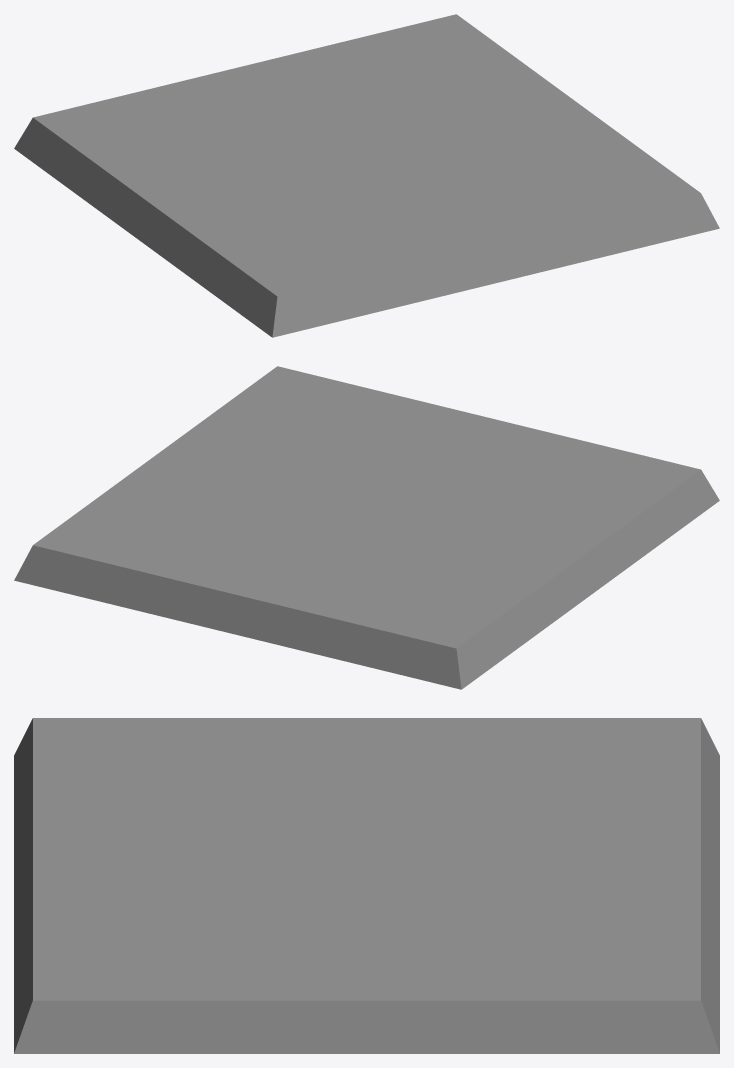
File: sidewalk-corner-01.glb
3 renders of one model, top to bottom at view 1: azimuth 30°, elevation 25°; view 2: azimuth 150°, elevation 25°; view 3: azimuth 270°, elevation 25°, orthographic. The views are drawn at different scales.
Visible parts, largest first — view 1: sidewalk-corner-01; view 2: sidewalk-corner-01; view 3: sidewalk-corner-01.
Part boxes in pixels (bbox=[...]): sidewalk-corner-01: bbox=[14, 14, 719, 337]; sidewalk-corner-01: bbox=[14, 366, 719, 689]; sidewalk-corner-01: bbox=[14, 718, 719, 1053].
Size of the model in its own units: 4 by 0.284 by 4.
Materials: 1 (1 with a texture image).
